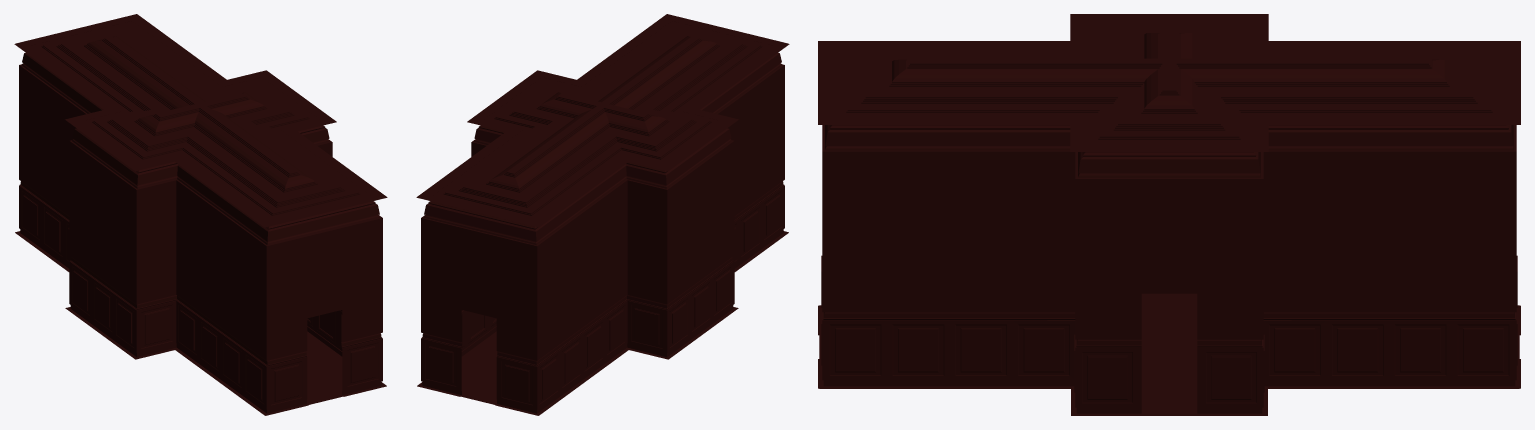
The model's file is 3door_2.FBX.
3 views of the same model, side by side, from view 1: azimuth 30°, elevation 25°; view 2: azimuth 150°, elevation 25°; view 3: azimuth 270°, elevation 25° (orthographic). The views are drawn at different scales.
Visible parts, largest first — view 1: walls, ceiling, floor; view 2: walls, ceiling, floor; view 3: walls, ceiling, floor.
Part boxes in pixels (bbox=[...]): walls: bbox=[15, 14, 386, 415]; ceiling: bbox=[14, 14, 387, 227]; floor: bbox=[15, 231, 386, 415]; walls: bbox=[417, 14, 788, 415]; ceiling: bbox=[416, 14, 789, 227]; floor: bbox=[417, 231, 788, 415]; walls: bbox=[818, 14, 1520, 413]; ceiling: bbox=[818, 14, 1520, 151]; floor: bbox=[819, 293, 1519, 415].
Bounding box in the file's own units: 198 × 427 × 192.
